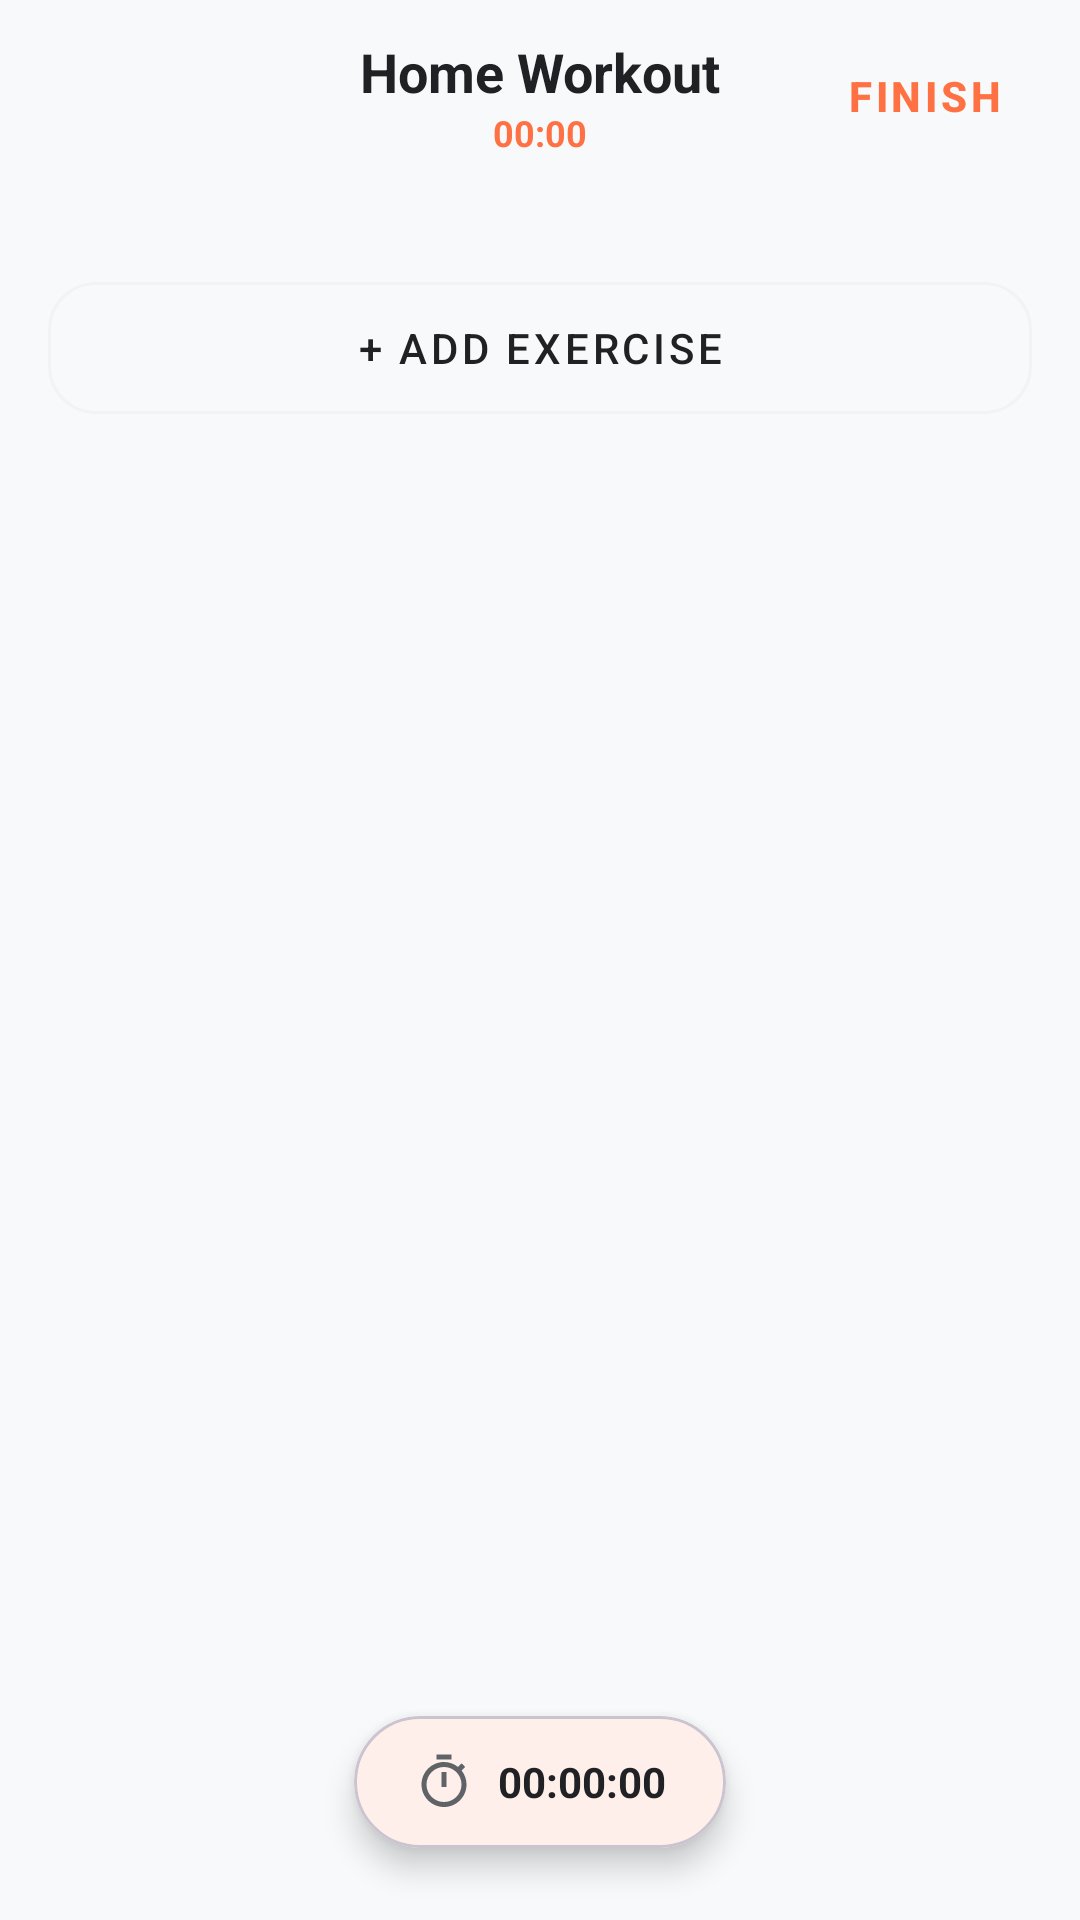

Named icons in this screenshot (1080*1920) and their bounding boxes, (x1, y1, x2, y2):
timer: (421, 1754, 467, 1807)
